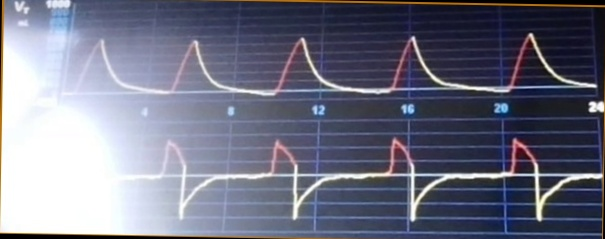Normal Flow: (114, 132, 599, 224)
Normal Volume: (69, 26, 593, 98)
